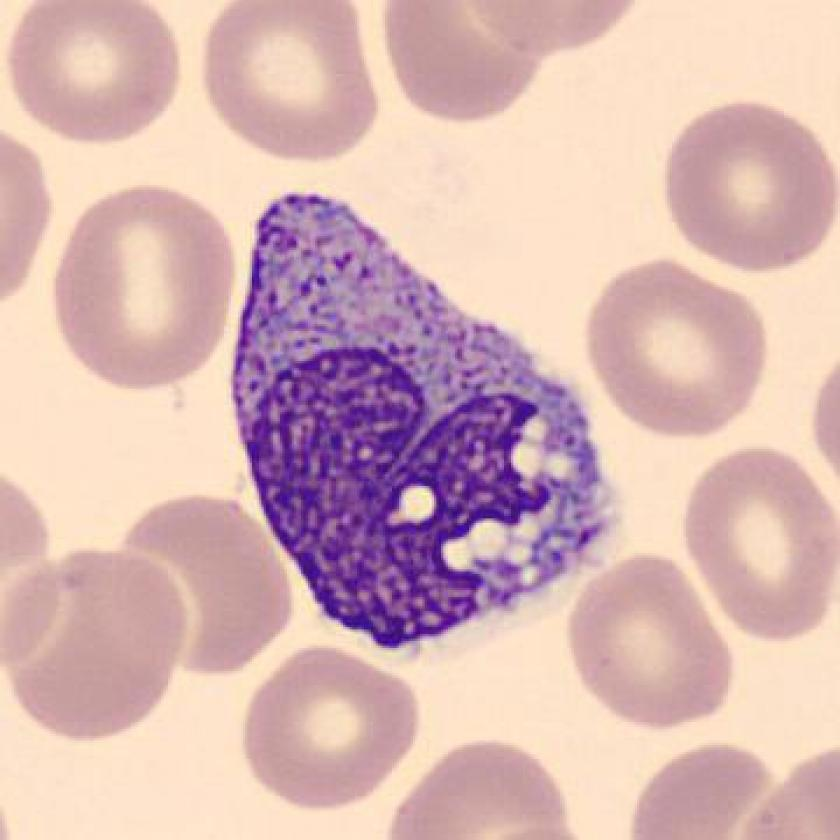monocyte: (209, 172, 640, 672)
